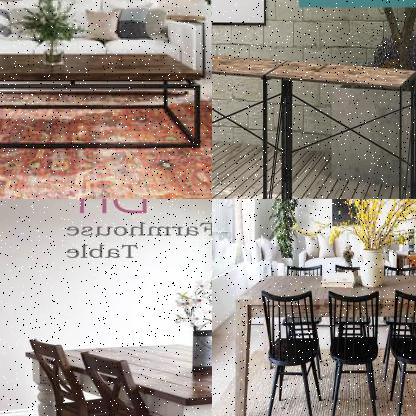table: (212, 43, 415, 198), (231, 269, 415, 415), (0, 48, 211, 155), (15, 337, 211, 415)
